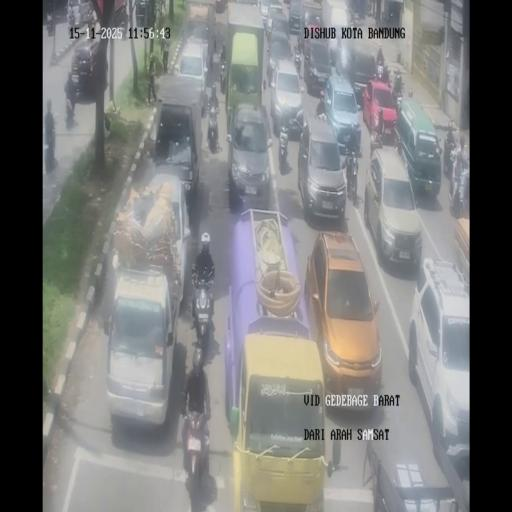car: (231, 329, 327, 510), (306, 228, 384, 407), (104, 266, 180, 428), (409, 259, 470, 459), (138, 172, 194, 303), (365, 145, 422, 270), (297, 111, 347, 222), (225, 100, 273, 208), (153, 94, 200, 194), (270, 60, 303, 140), (175, 41, 210, 114), (69, 37, 108, 98), (343, 46, 377, 106), (304, 39, 332, 96), (68, 0, 94, 29), (267, 33, 292, 63), (258, 0, 278, 28), (288, 0, 304, 33), (304, 8, 321, 39)
motorcycle: (180, 396, 212, 492), (190, 269, 215, 355), (450, 166, 466, 215), (206, 100, 221, 152), (344, 152, 359, 202), (444, 132, 458, 177), (278, 122, 290, 170), (369, 119, 383, 156), (64, 96, 76, 128), (392, 120, 404, 150), (391, 79, 403, 106), (377, 61, 390, 85), (315, 93, 326, 118), (219, 61, 227, 94), (294, 42, 302, 74), (295, 108, 304, 136), (264, 21, 272, 48), (266, 60, 274, 86), (46, 10, 54, 36), (90, 11, 98, 35), (118, 17, 127, 38), (208, 40, 214, 70), (346, 6, 356, 24), (380, 10, 390, 24), (366, 2, 372, 17), (290, 46, 294, 58)
truck: (366, 429, 463, 511), (317, 422, 379, 512), (321, 0, 353, 63), (454, 216, 470, 290), (51, 0, 69, 24)
